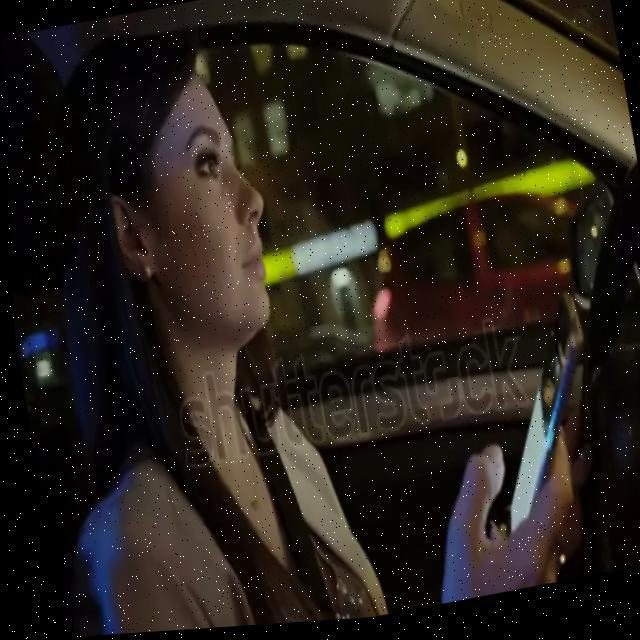PhoneCall: (468, 292, 607, 548)
